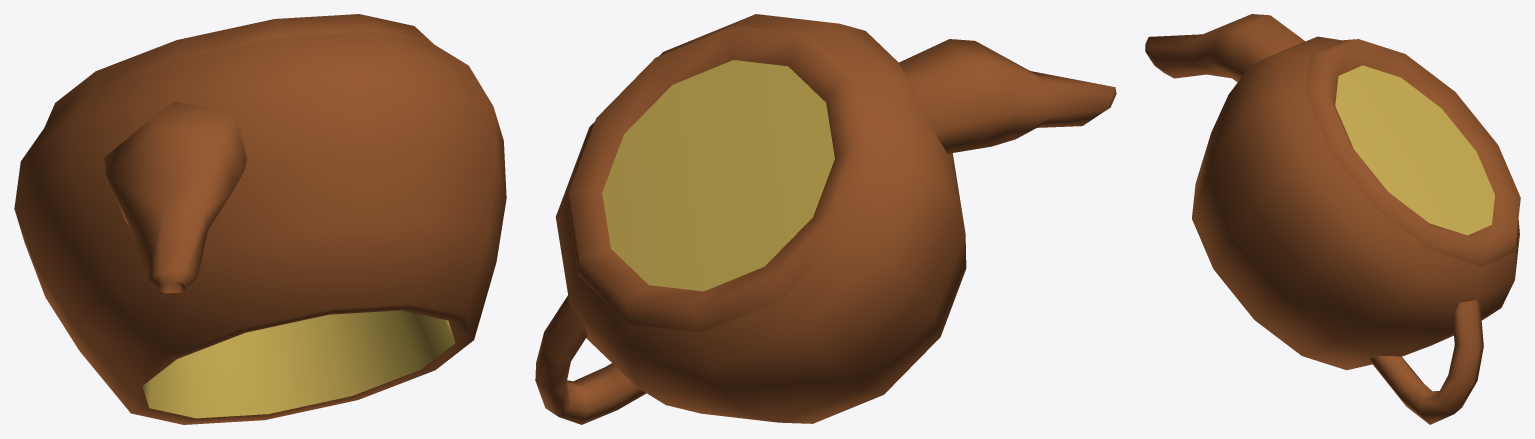
Rendered from Domik_Chaynik.fbx.
3 renders of one model, left to right at view 1: azimuth 30°, elevation 25°; view 2: azimuth 150°, elevation 25°; view 3: azimuth 270°, elevation 25°, orthographic. The views are drawn at different scales.
Visible parts, largest first — view 1: Teapot001; view 2: Teapot001; view 3: Teapot001.
Boxes of the visible parts, box(x1,y1,x2,y2) form: Teapot001: box(14, 14, 506, 424); Teapot001: box(535, 14, 1116, 424); Teapot001: box(1145, 14, 1520, 424).
Bounding box in the file's own units: 608 × 540 × 597.
